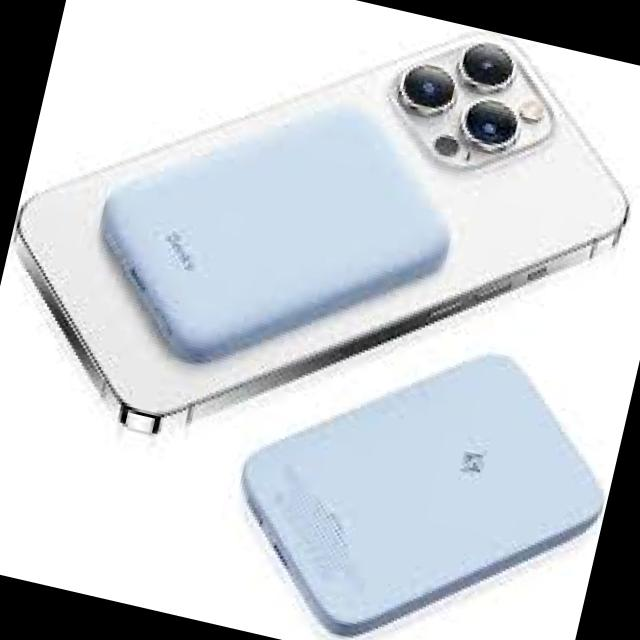portable-charger: (200, 295, 634, 640), (72, 55, 477, 420)
